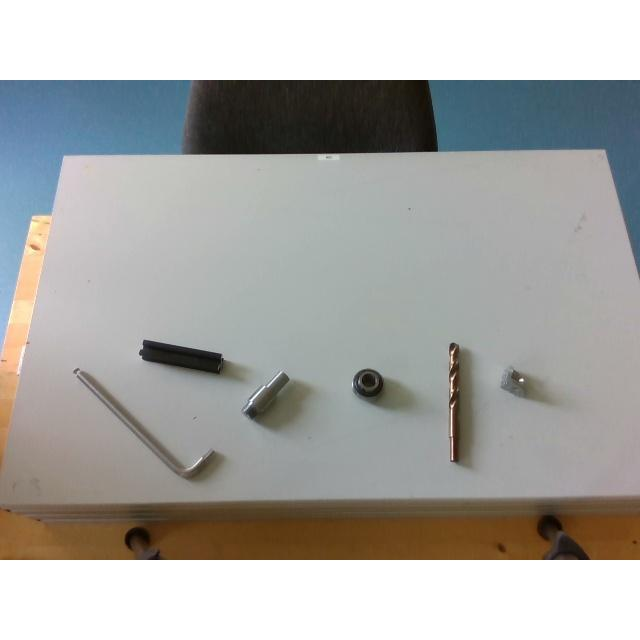AllenKey: (74, 369, 214, 479)
Axis2: (242, 370, 290, 418)
Bearing2: (353, 369, 383, 397)
Drill: (448, 342, 460, 462)
F20_20_B: (139, 339, 223, 373)
